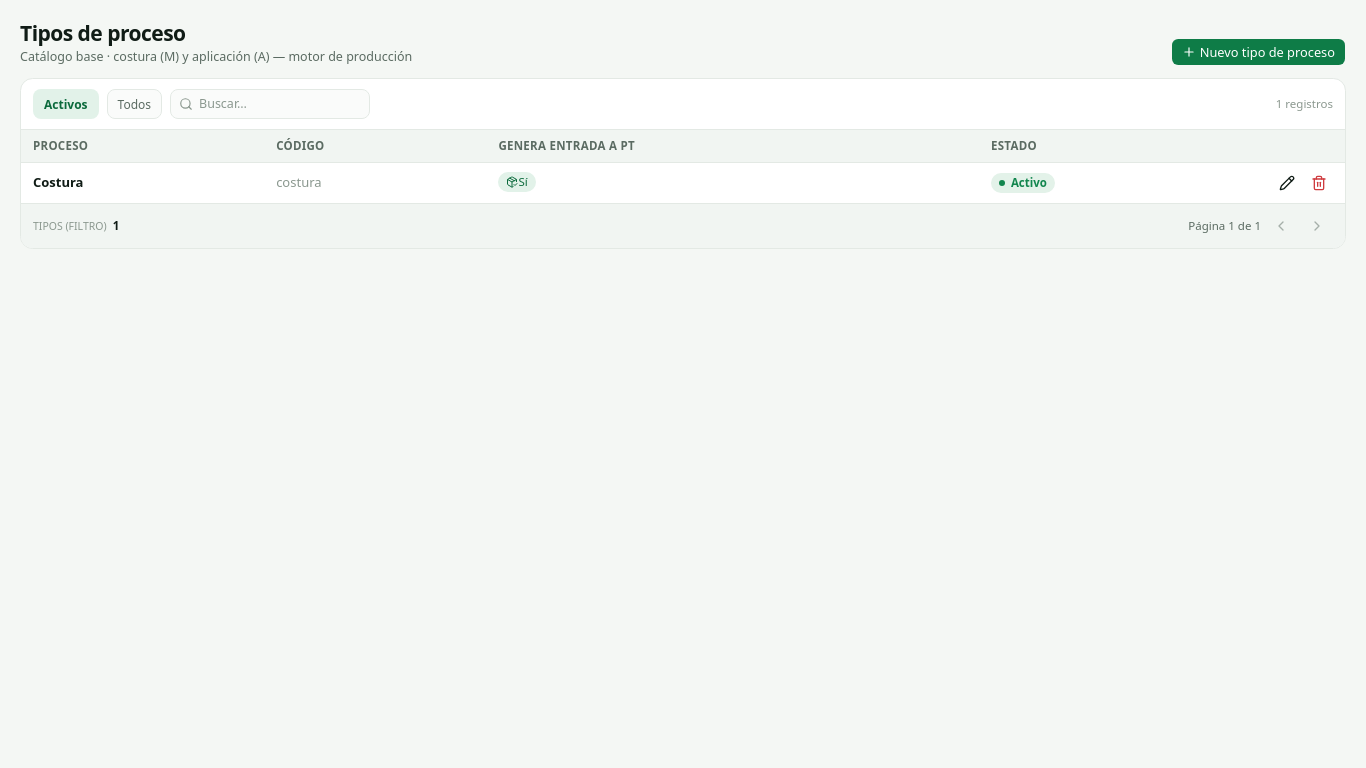
it: <TiposProcesoPagina> › un GESTOR (no admin) ve la bandera DESHABILITADA y el aviso
Step 1. Click the button with test id "nuevo-tipo-proceso" → [1258, 52], box [1171,38,1346,66]
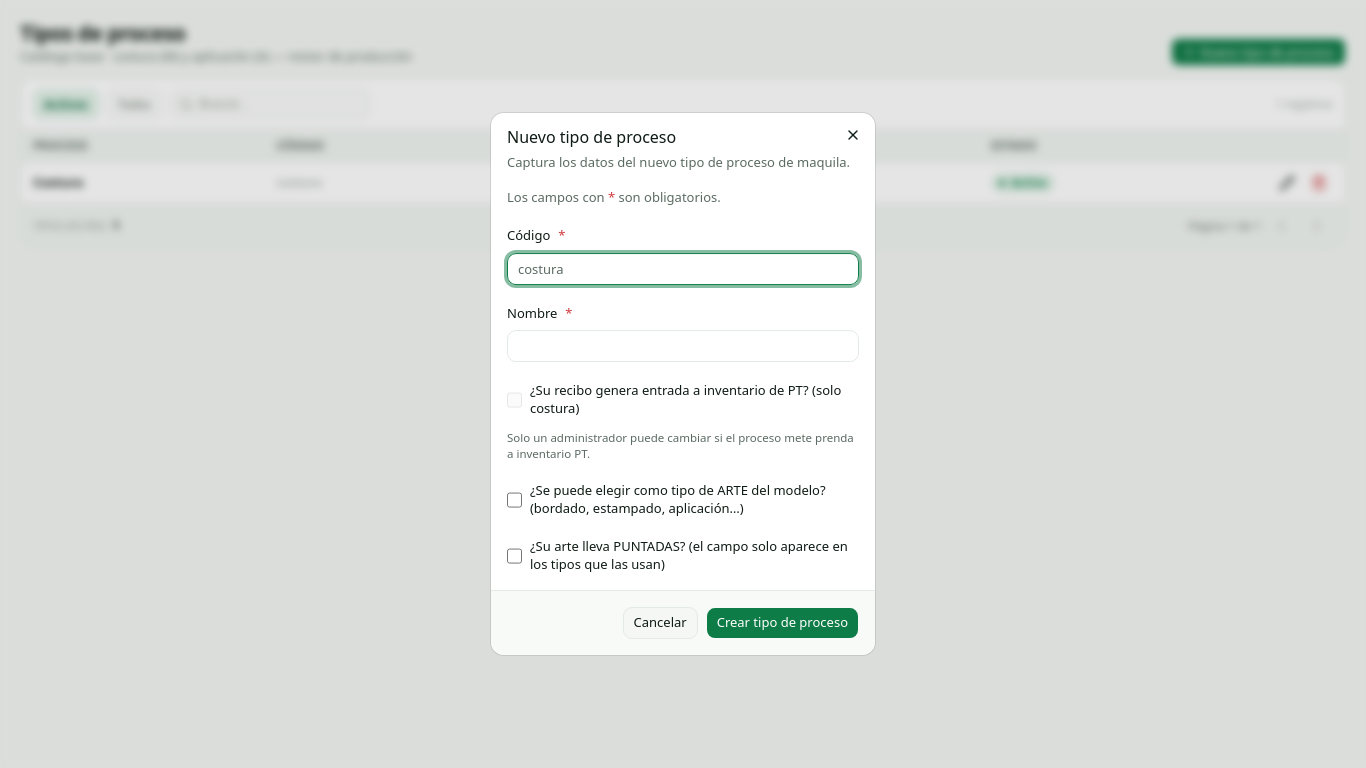
Expected: the checkbox with test id "tp-genera-entrada" is disabled, [507,392,522,408]
Result: the text "Solo un administrador puede cambiar" is shown at [507,430,854,461]
